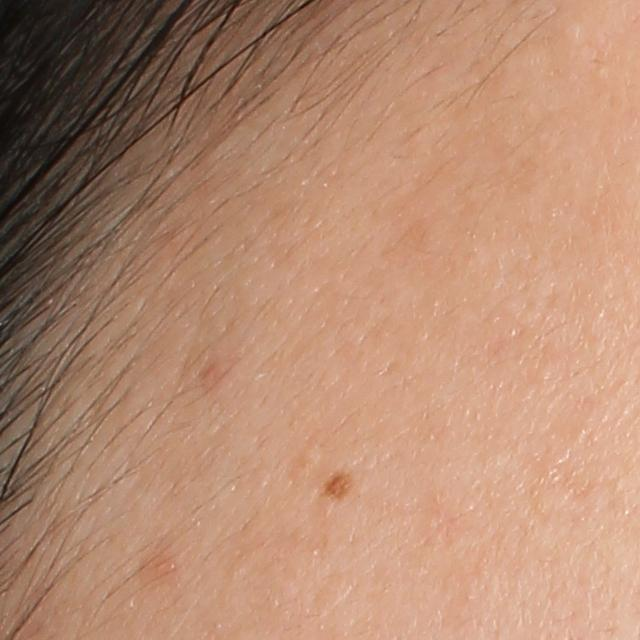nevus: (322, 473, 353, 501)
